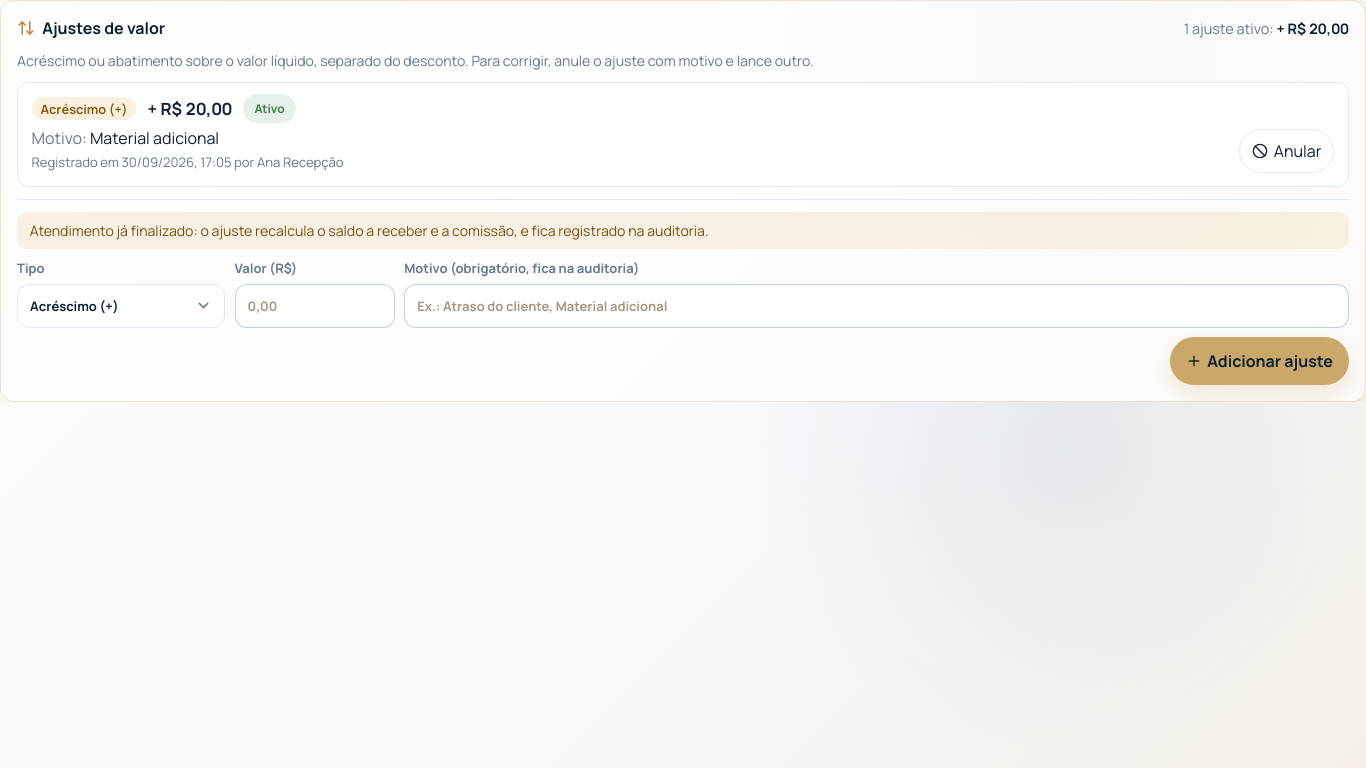
Test: AppointmentValueAdjustments › anula um ajuste exigindo motivo no modal
Expected: the list named "Ajustes registrados" is shown, [17, 82, 1349, 187]
Expected: the text "Atendimento já finalizado" is shown, [30, 221, 708, 240]
Click the button with aria-label "Anular Acréscimo" at (1287, 151), box [1239, 129, 1334, 173]
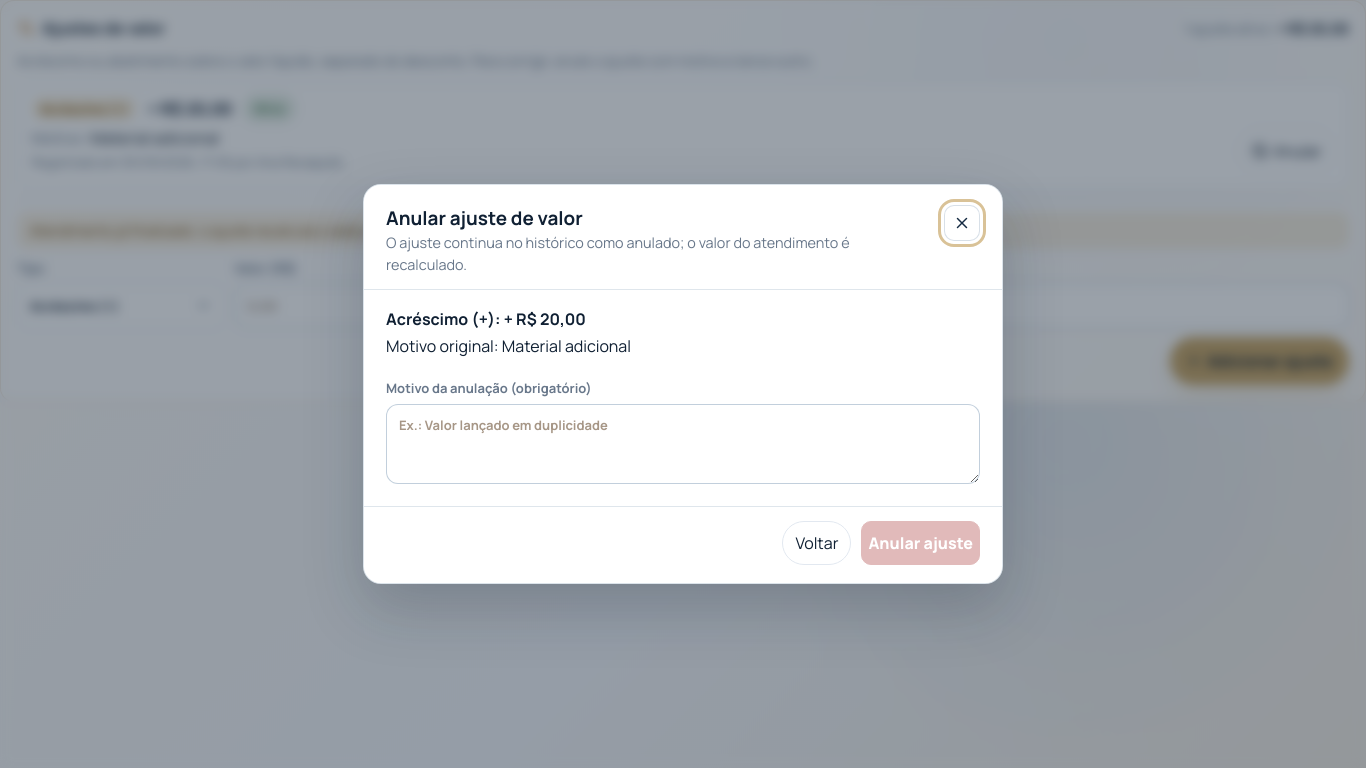
Result: the button "Anular ajuste" is disabled at [861, 521, 980, 565]
Type "Cobrado por engano" into the text box labelled "Motivo da anulação (obrigatório)" at (683, 444), box [386, 404, 980, 484]
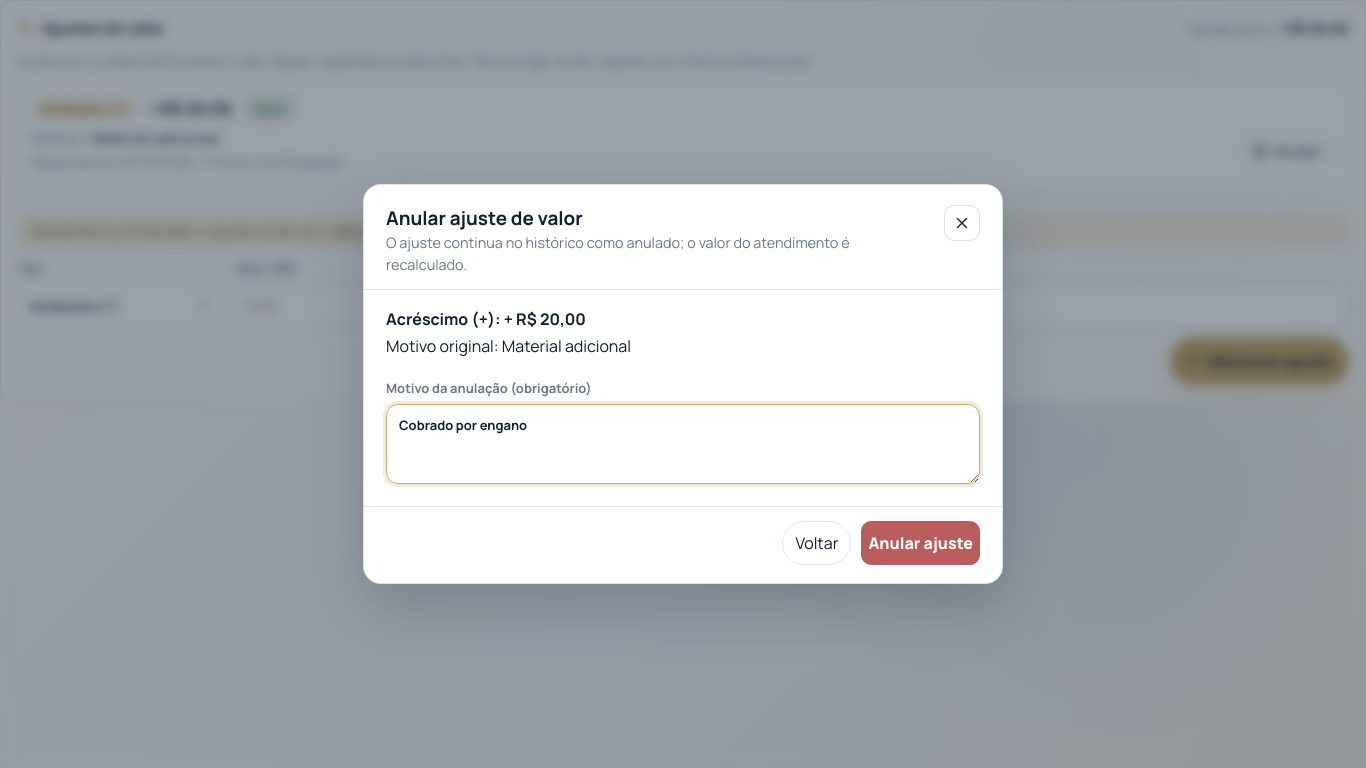
Result: the button "Anular ajuste" is enabled
Click the button "Anular ajuste" at (921, 543), box [861, 521, 980, 565]
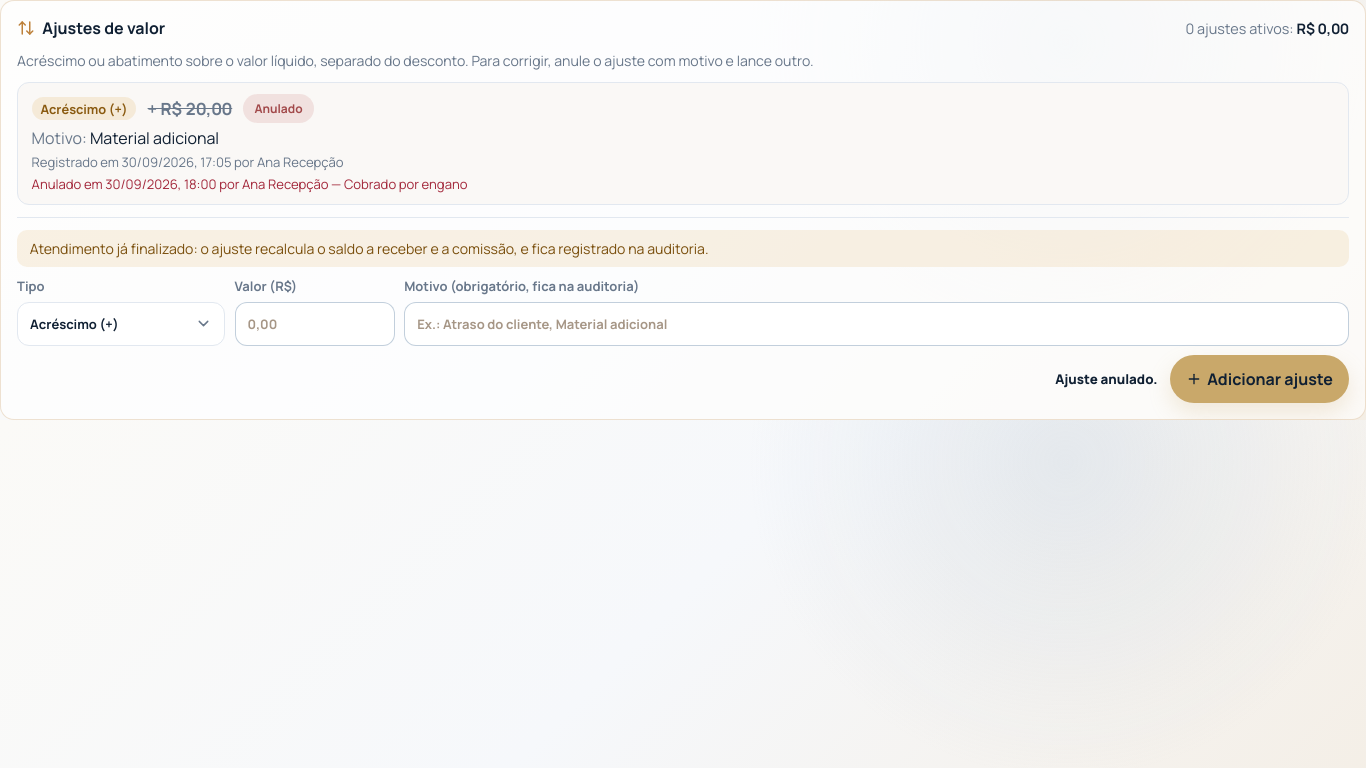
Result: the dialog is gone
Result: the text "Anulado" is shown at [243, 94, 314, 123]
Result: the text "Ajuste anulado." is shown at [1055, 370, 1158, 388]
